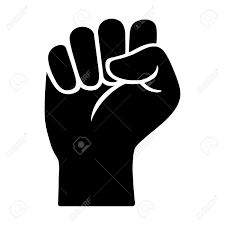fist: (47, 19, 159, 154)
